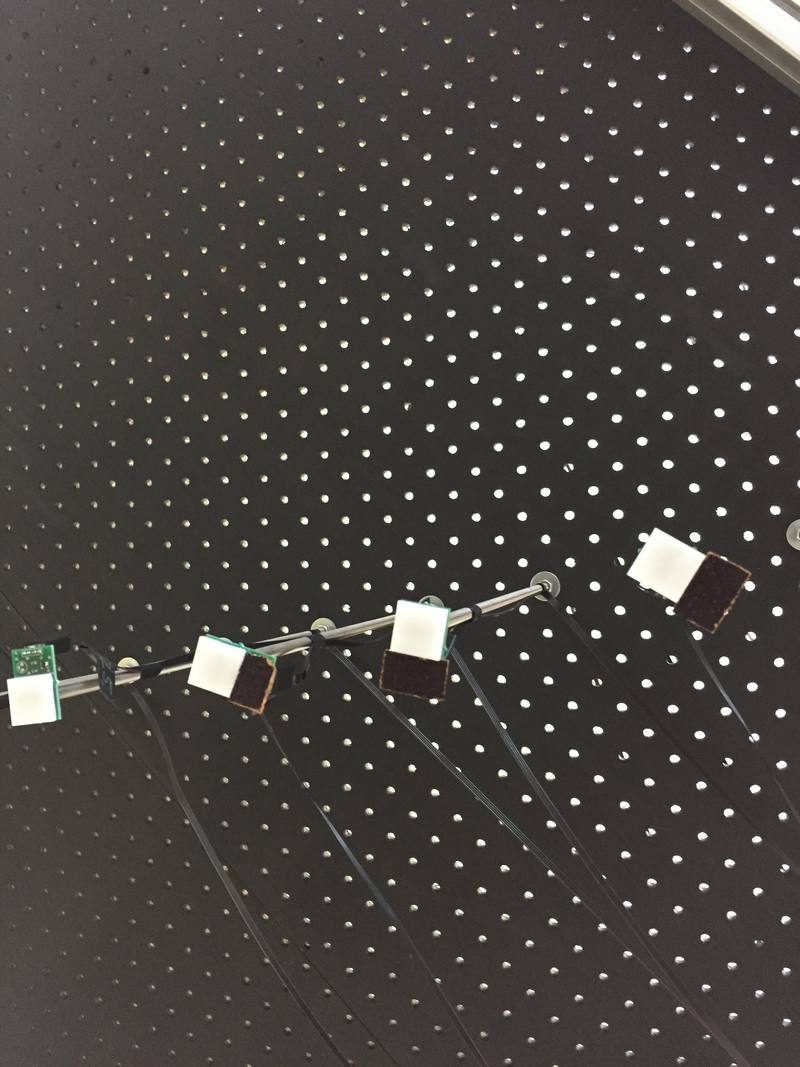target: (624, 525, 706, 607), (383, 588, 454, 666), (179, 635, 246, 699), (6, 676, 65, 730)
